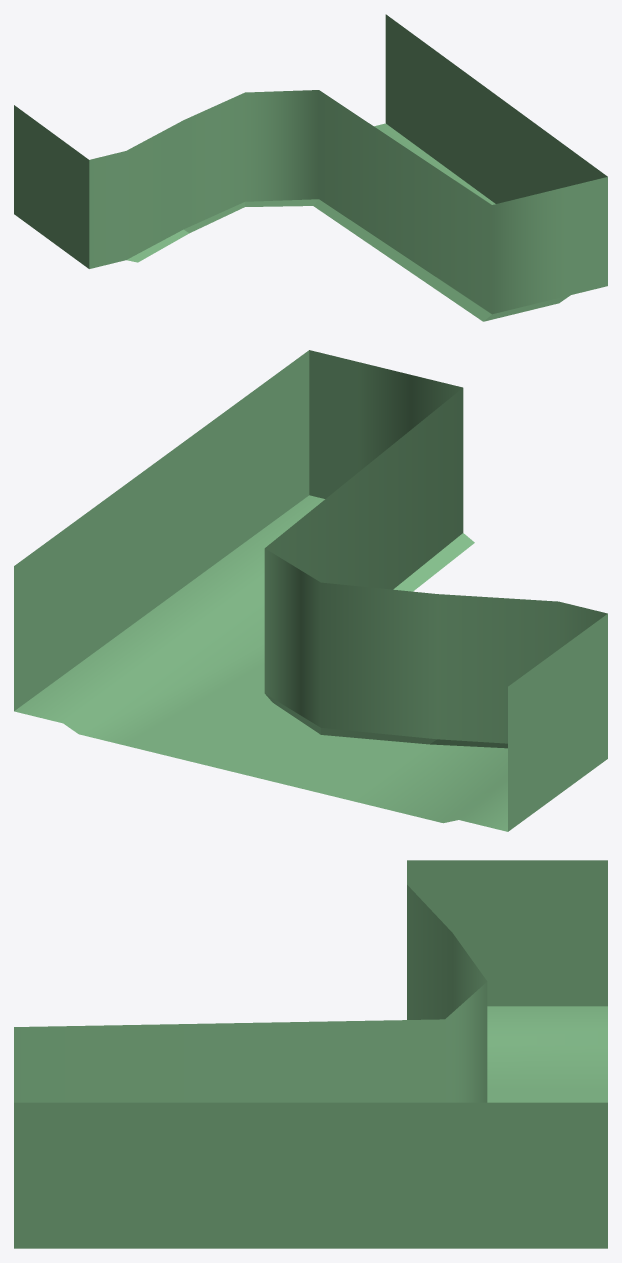
Rendered from Bridge_Cap_16_B_COL.FBX.
3 views of the same model, one above another, from view 1: azimuth 30°, elevation 25°; view 2: azimuth 150°, elevation 25°; view 3: azimuth 270°, elevation 25° (orthographic). The views are drawn at different scales.
Visible parts, largest first — view 1: Bridge_Cap_16_B_COL; view 2: Bridge_Cap_16_B_COL; view 3: Bridge_Cap_16_B_COL.
Boxes of the visible parts, left/top/right/bottom form: Bridge_Cap_16_B_COL: left=14, top=14, right=607, bottom=321; Bridge_Cap_16_B_COL: left=14, top=350, right=607, bottom=831; Bridge_Cap_16_B_COL: left=14, top=860, right=607, bottom=1248.
Bounding box in the file's own units: 690 × 203 × 714.
